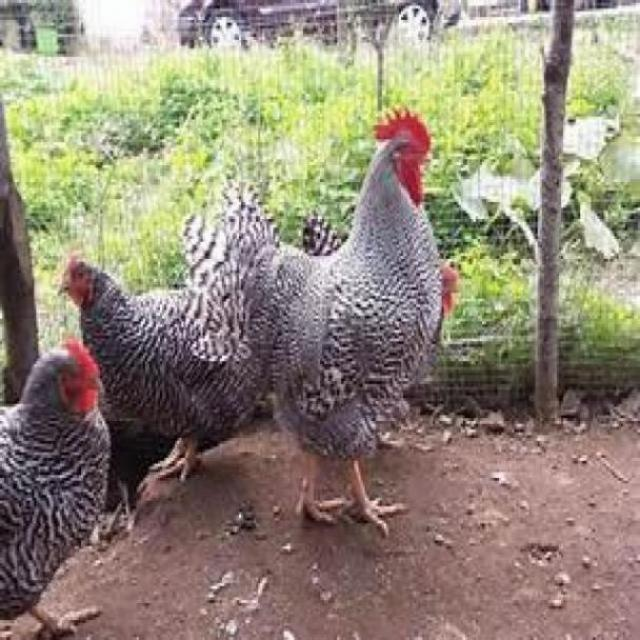Chicken: (184, 105, 442, 538), (58, 182, 282, 481), (0, 338, 113, 640), (303, 213, 461, 313)
